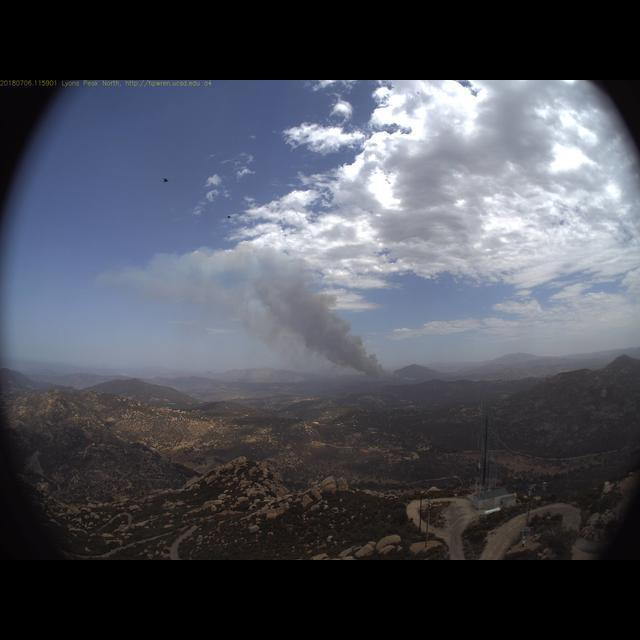Smoke: (90, 238, 418, 390)
